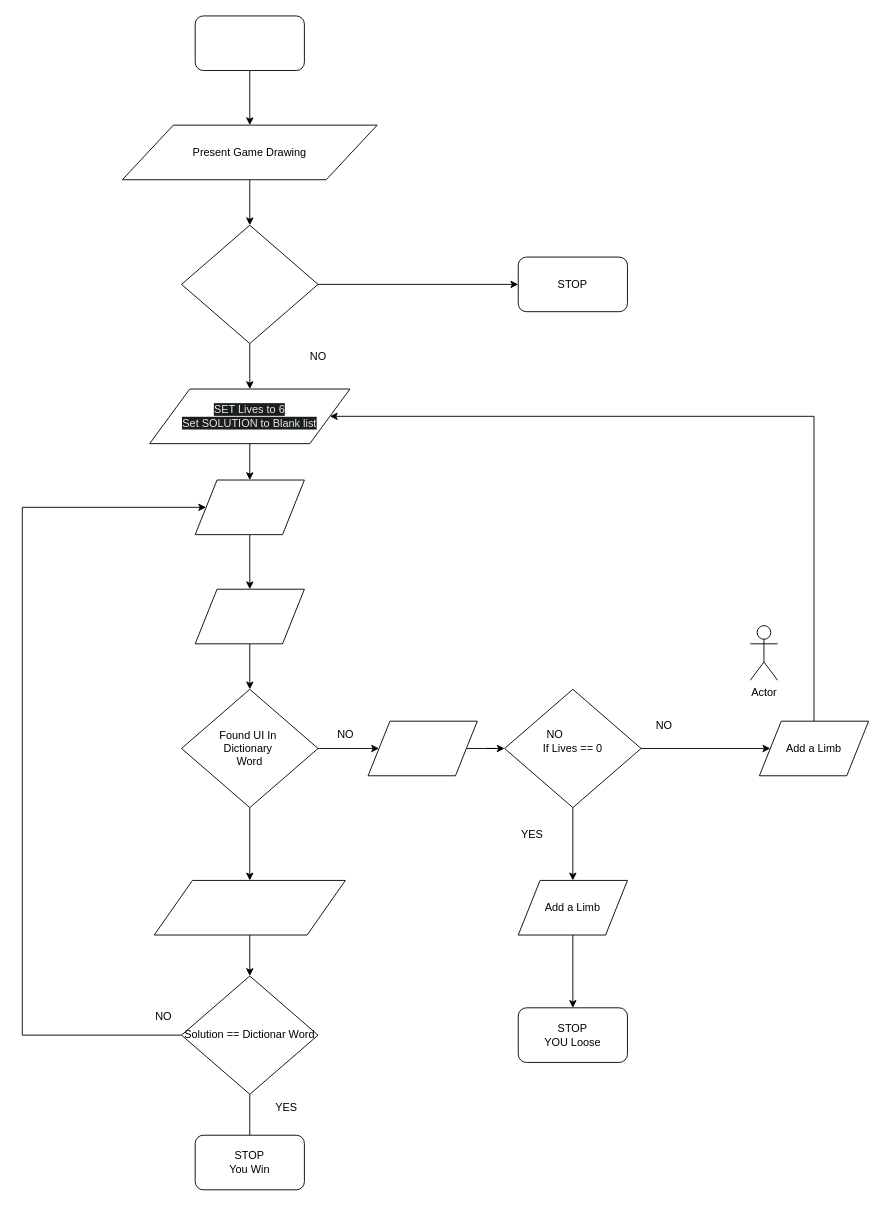
Image size: 885x1206. Some labels were removed from this diagram. The shapes that lost their labels are listed below. From the top down, each one's box as (x1, y1, x2, y2) in pixels, then its label:
(194, 15, 304, 71): START Welcom to Hangman
(181, 224, 318, 344): Load a Random Dictionary Word
(194, 479, 304, 535): Ask User Input
(194, 588, 304, 644): Read User Input
(367, 720, 477, 776): LIves-=1
(153, 880, 345, 935): Add letters To Solution
